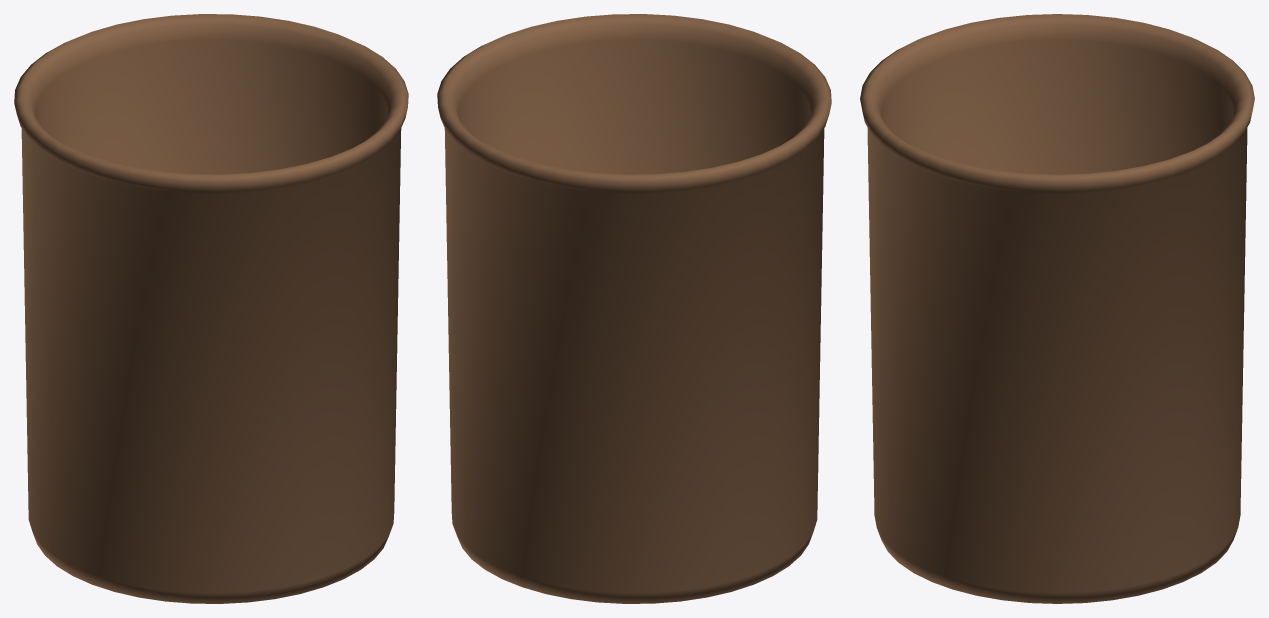
Rendered from proc_dice_cup_95mm.glb.
3 views of the same model, side by side, from view 1: azimuth 30°, elevation 25°; view 2: azimuth 150°, elevation 25°; view 3: azimuth 270°, elevation 25° (orthographic).
Visible parts, largest first — view 1: dice_cup; view 2: dice_cup; view 3: dice_cup.
Boxes of the visible parts, x1,y1,x2,y2 form: dice_cup: (14, 14, 408, 603); dice_cup: (437, 14, 831, 603); dice_cup: (860, 14, 1254, 603).
Bounding box in the file's own units: 0.082 × 0.0995 × 0.082.
